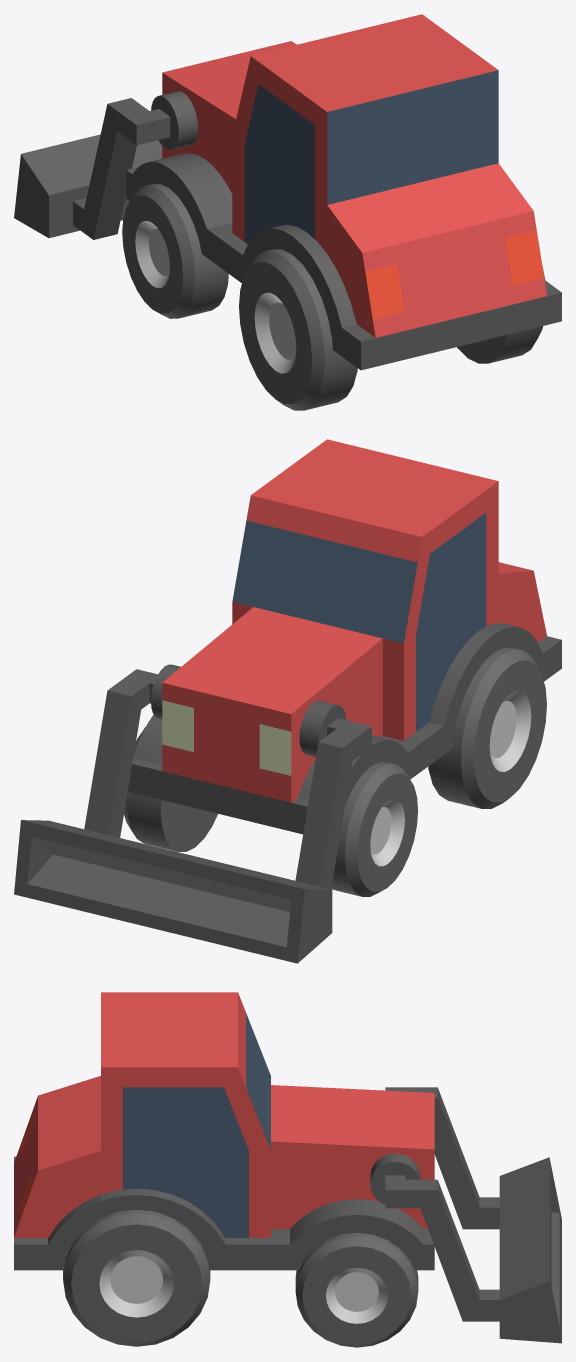
File: carTractorShovel.obj
3 views of the same model, one above another, from view 1: azimuth 30°, elevation 25°; view 2: azimuth 150°, elevation 25°; view 3: azimuth 270°, elevation 25° (orthographic). The views are drawn at different scales.
Parts seen in each view (by area): view 1: body 10, shovel, wheelBackLeft 10, wheelFrontLeft 10, wheelBackRight 10; view 2: body 10, shovel, wheelBackLeft 10, wheelFrontLeft 10, wheelFrontRight 10; view 3: body 10, shovel, wheelBackRight 10, wheelFrontRight 10.
Boxes of the visible parts, x1,y1,x2,y2 form: body 10: [126, 14, 561, 370]; shovel: [14, 91, 197, 239]; wheelBackLeft 10: [239, 249, 357, 410]; wheelFrontLeft 10: [122, 184, 228, 318]; wheelBackRight 10: [457, 266, 545, 363]; body 10: [128, 439, 561, 834]; shovel: [14, 664, 371, 963]; wheelBackLeft 10: [428, 647, 546, 808]; wheelFrontLeft 10: [331, 762, 417, 896]; wheelFrontRight 10: [124, 727, 217, 851]; body 10: [14, 992, 434, 1270]; shovel: [370, 1087, 561, 1343]; wheelBackRight 10: [63, 1209, 210, 1346]; wheelFrontRight 10: [295, 1232, 418, 1347].
Bounding box in the file's own units: 6.7 × 6.83 × 12.5.
